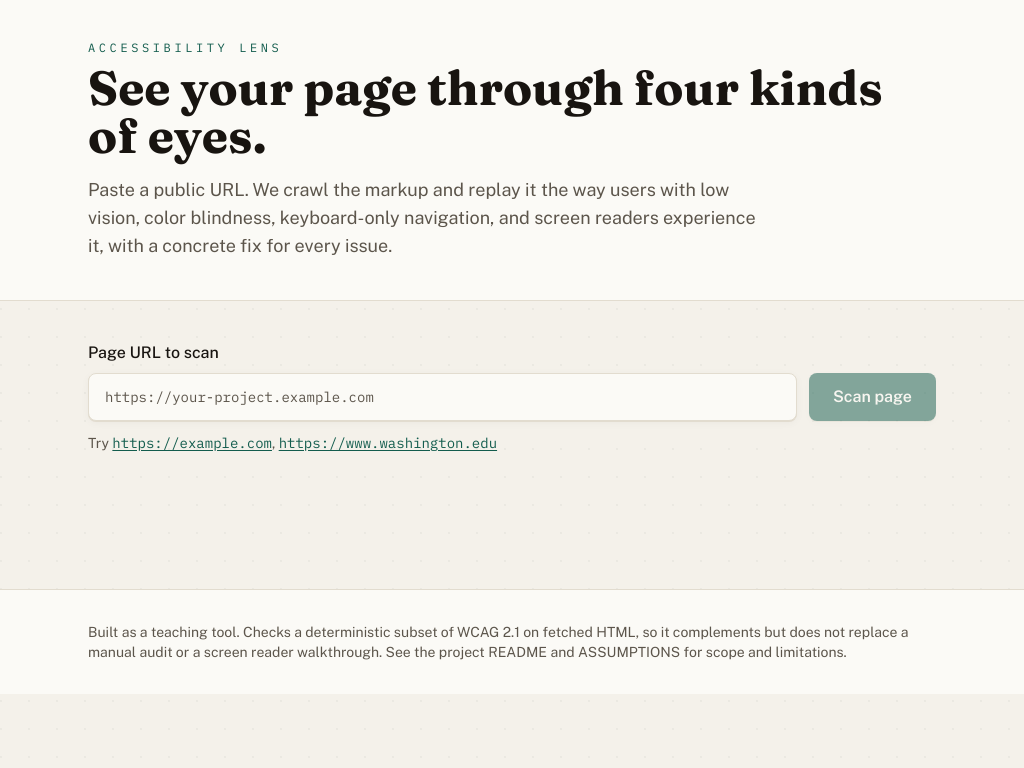
Test case: App › runs a scan and renders the report
In the field labelled "Page URL to scan": (442, 397) [88,373,797,421], type "https://example.com"
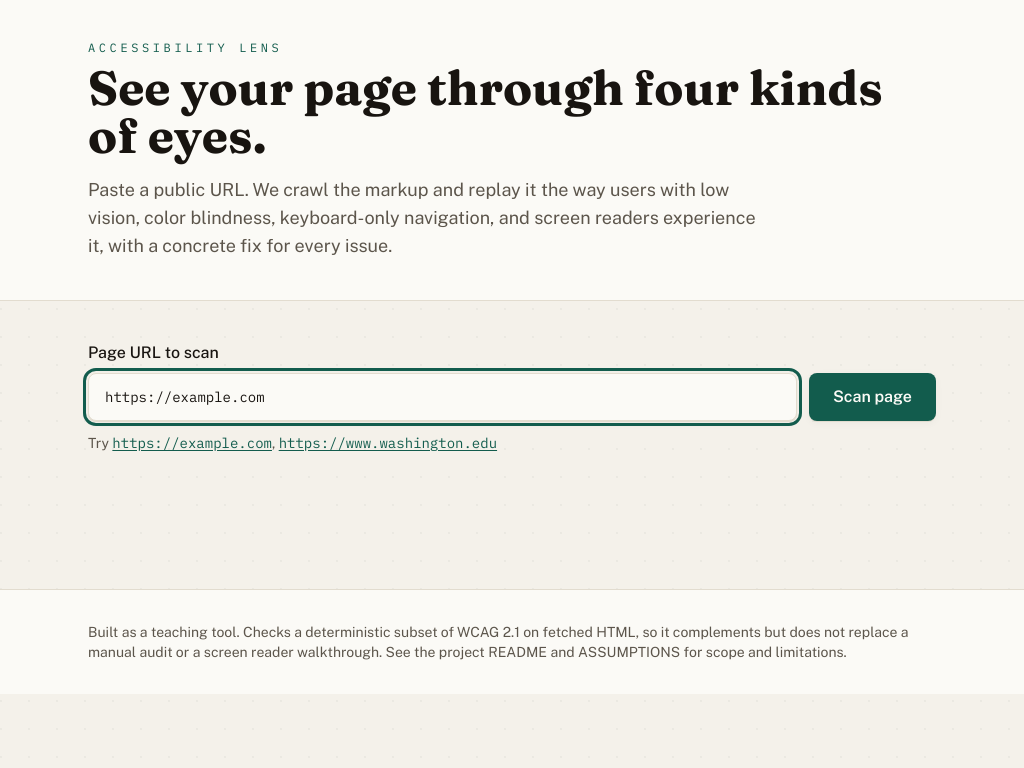
Click the button "Scan page": (872, 397) [809,373,936,421]
(page scrolled)
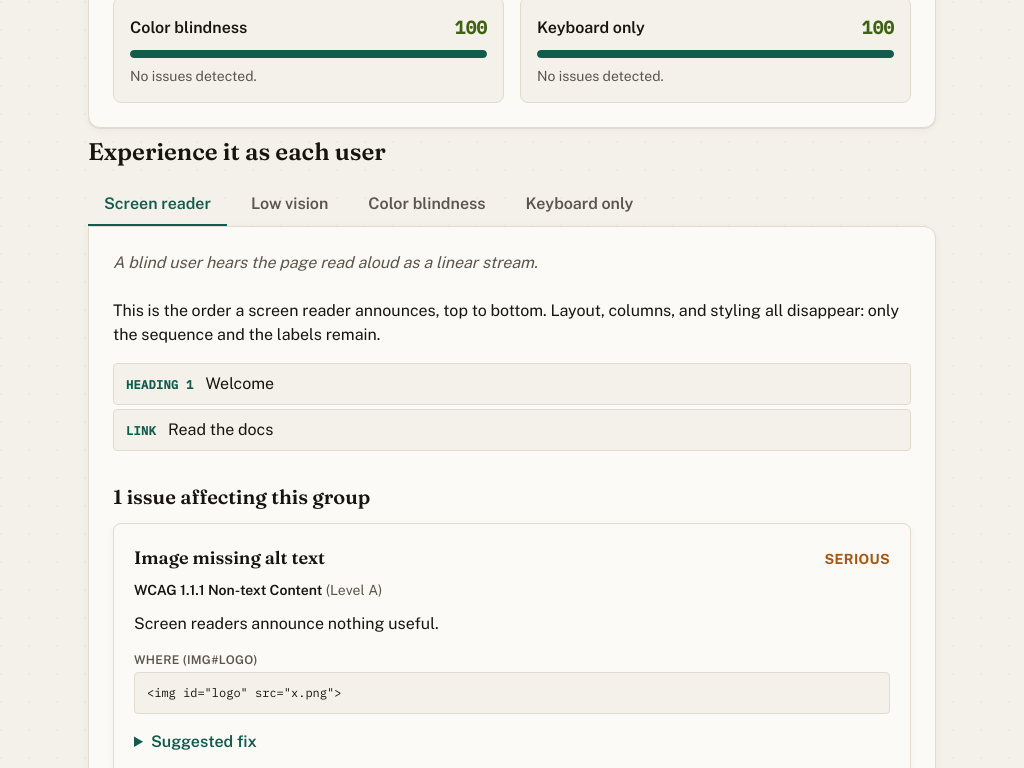
expect the text "Welcome" is shown: met, box [206,372,274,396]
